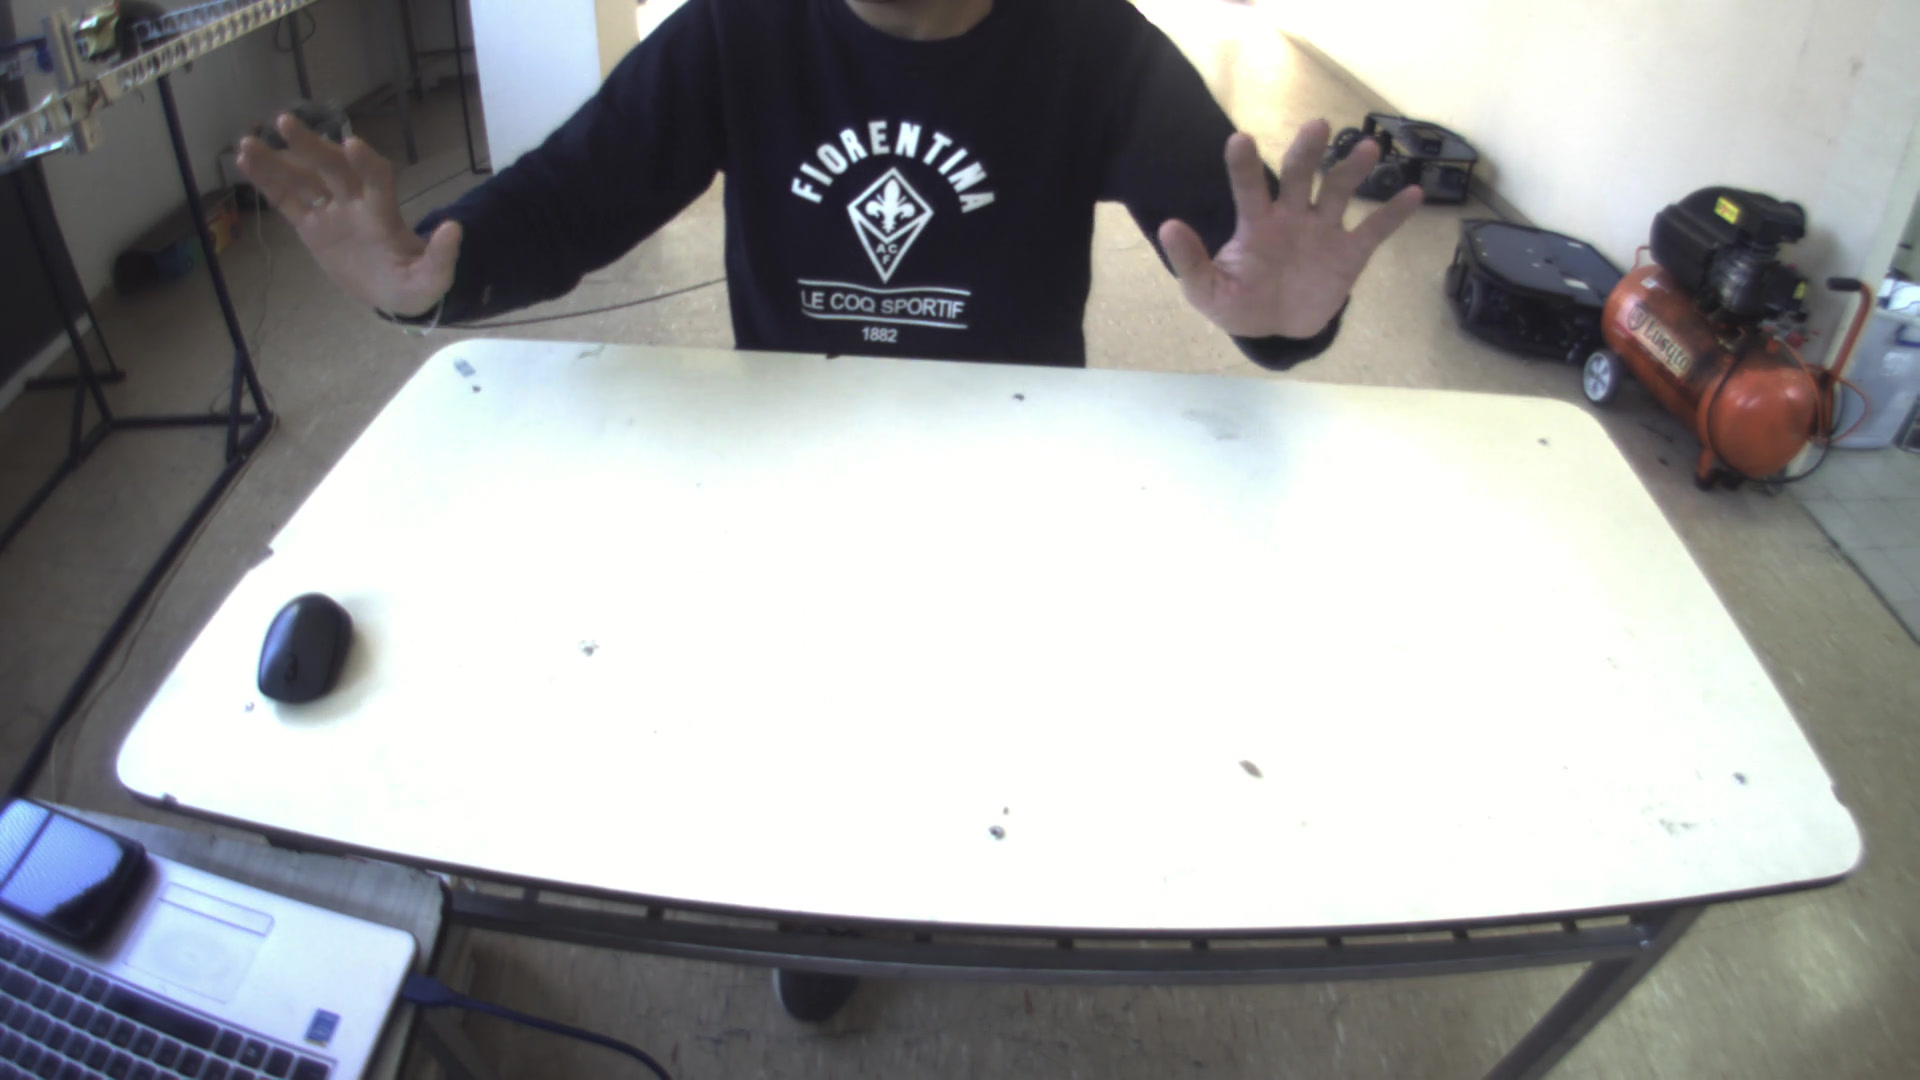hand: (1145, 109, 1445, 349), (220, 98, 465, 327)
